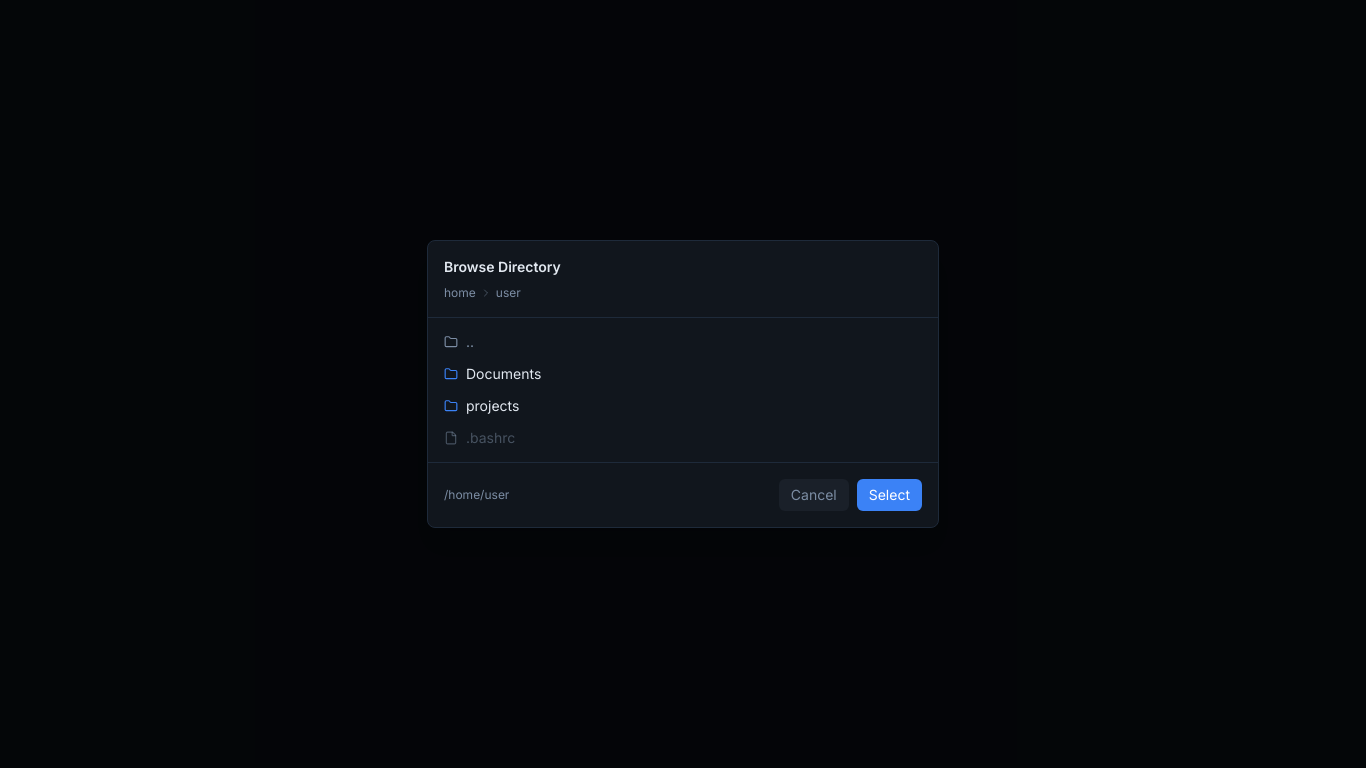
Scenario: DirectoryBrowserModal › clicking a breadcrumb navigates to that path
Click the button "home" at (460, 293), box x1=444 y1=285 x2=476 y2=301
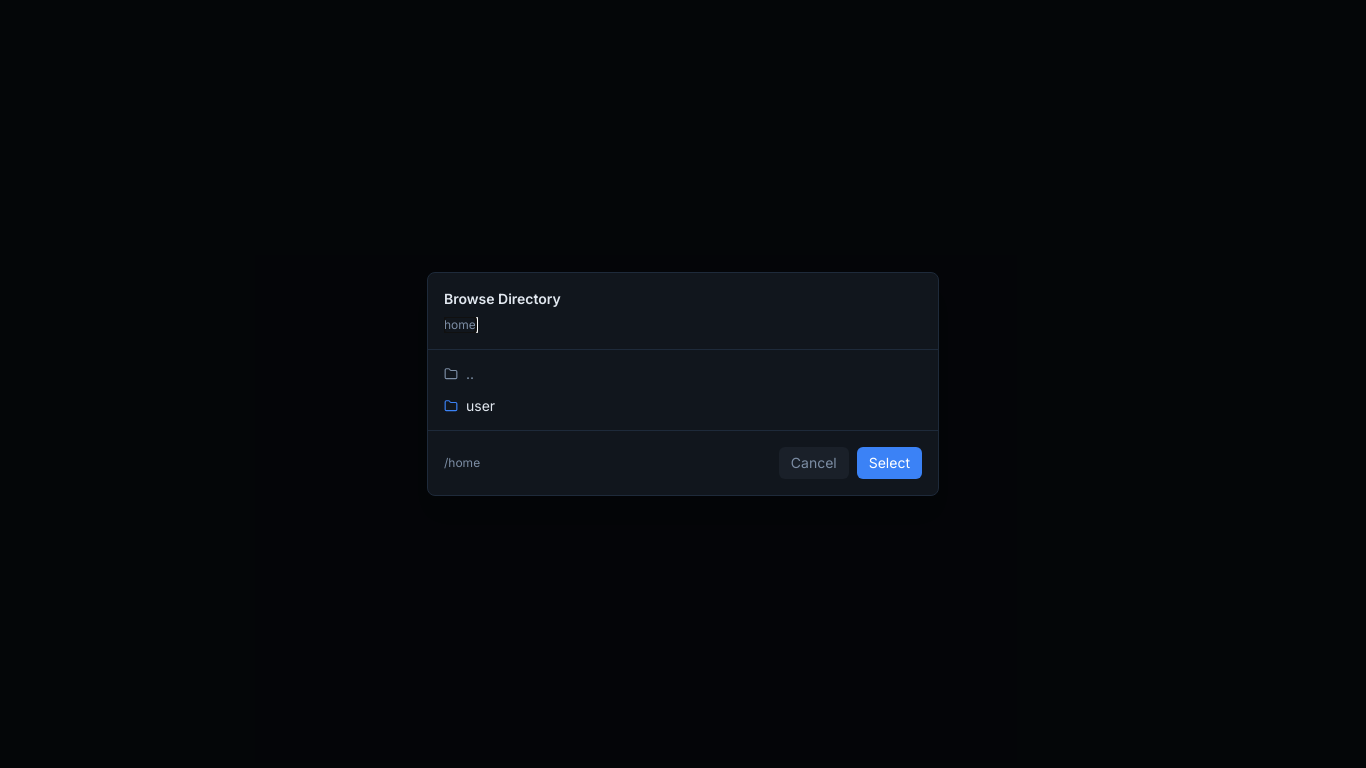
expect the text "/home" is shown: met, box x1=444 y1=455 x2=480 y2=471
